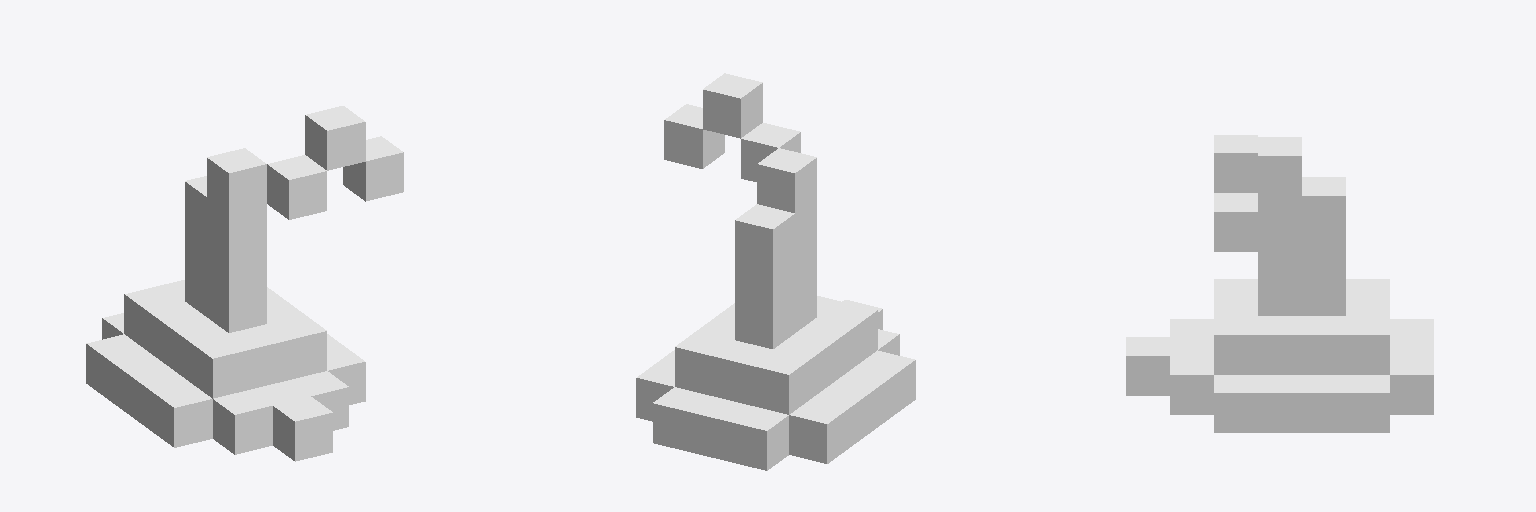
File: WaterPlant1.obj
The picture shows the model from 3 angles: view 1: azimuth 30°, elevation 25°; view 2: azimuth 150°, elevation 25°; view 3: azimuth 270°, elevation 25°; orthographic projection.
Parts seen in each view (by area): view 1: object 1; view 2: object 1; view 3: object 1.
Boxes of the visible parts, x1=… form: object 1: x1=86, y1=106, x2=403, y2=461; object 1: x1=636, y1=73, x2=915, y2=470; object 1: x1=1126, y1=135, x2=1433, y2=432.
Bounding box in the file's own units: 0.6 × 0.7 × 0.7.